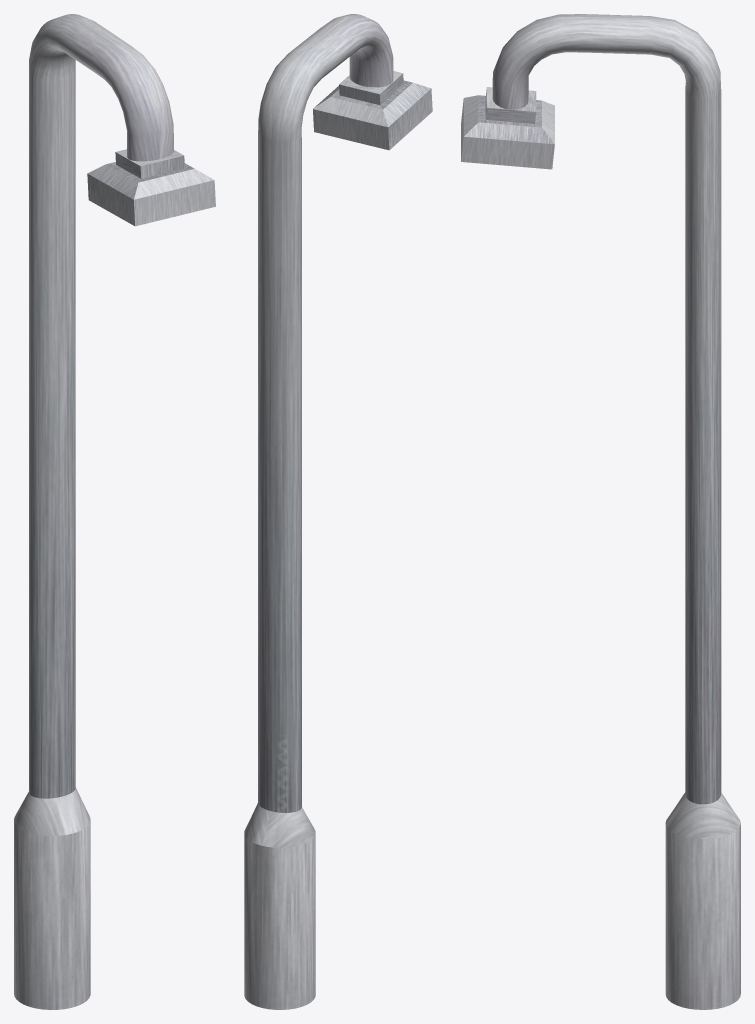
File: villanyoszlop01.fbx
3 views of the same model, side by side, from view 1: azimuth 30°, elevation 25°; view 2: azimuth 150°, elevation 25°; view 3: azimuth 270°, elevation 25° (orthographic). The views are drawn at different scales.
Visible parts, largest first — view 1: Cylinder; view 2: Cylinder; view 3: Cylinder.
Boxes of the visible parts, x1,y1,x2,y2 form: Cylinder: [14, 14, 215, 1009]; Cylinder: [244, 14, 432, 1009]; Cylinder: [461, 14, 740, 1009].
Size of the model in its own units: 48.63 by 572 by 148.
2 materials, 2 textured.
